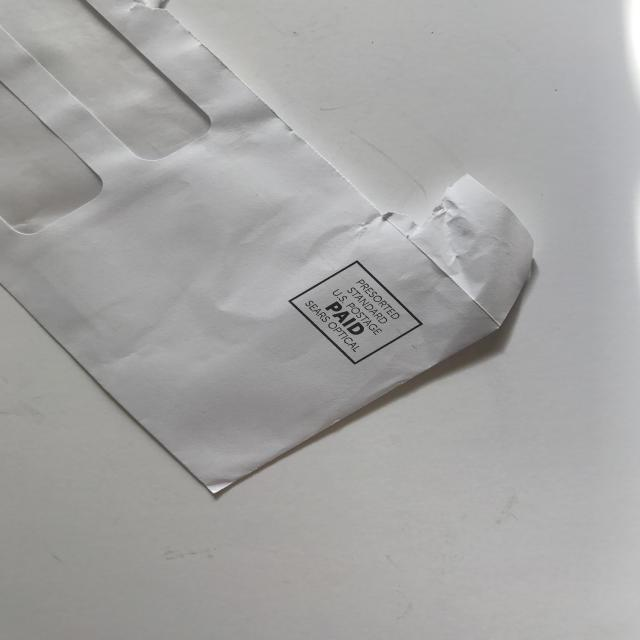paper: (0, 0, 636, 635)
